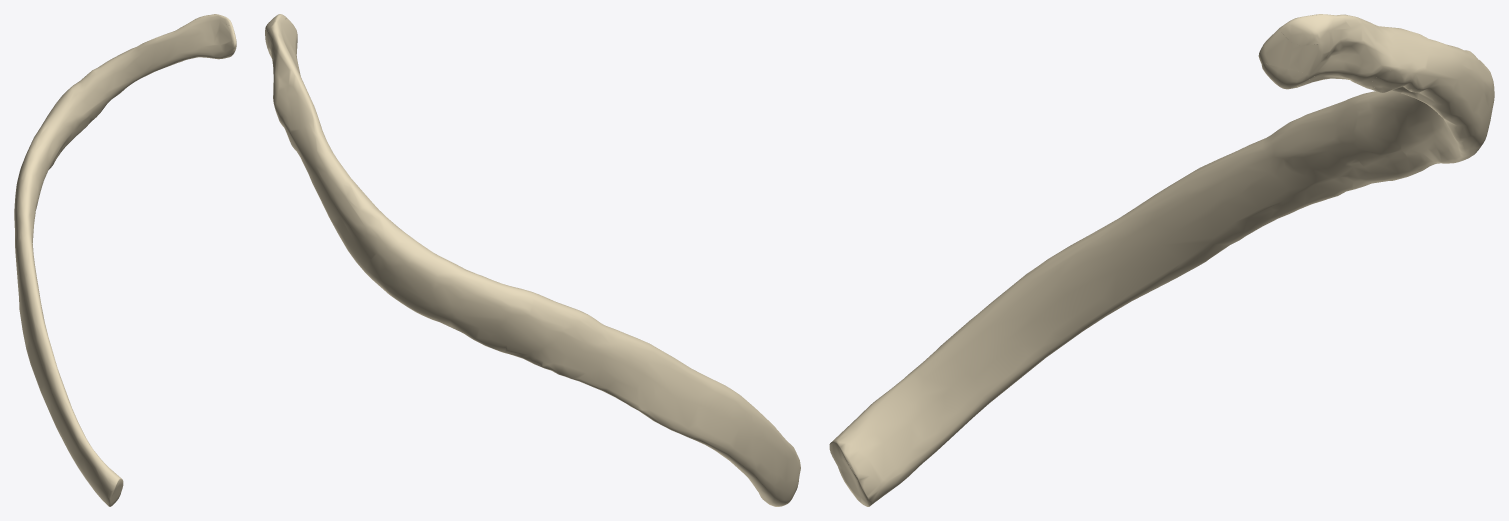
Rendered from esqueleto-ninth-rib-r.glb.
3 views of the same model, side by side, from view 1: azimuth 30°, elevation 25°; view 2: azimuth 150°, elevation 25°; view 3: azimuth 270°, elevation 25° (orthographic). The views are drawn at different scales.
Visible parts, largest first — view 1: Ninth rib.r; view 2: Ninth rib.r; view 3: Ninth rib.r.
Part boxes in pixels (<box>): Ninth rib.r: <box>14,14,236,506</box>; Ninth rib.r: <box>265,14,800,506</box>; Ninth rib.r: <box>829,14,1494,506</box>.
Bounding box in the file's own units: 0.1152 × 0.1551 × 0.1324.
